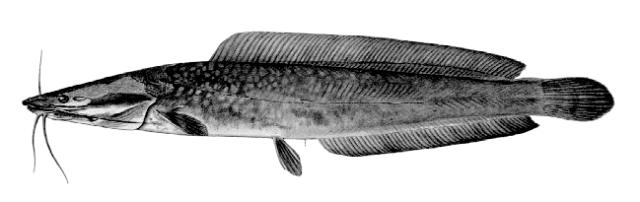Sirip Anal: (314, 110, 542, 164)
Sirip Dada: (151, 101, 211, 145)
Sirip Ekor: (538, 62, 624, 136)
Sirip Perut: (266, 132, 308, 184)
Sirip Punggung: (208, 27, 530, 85)
